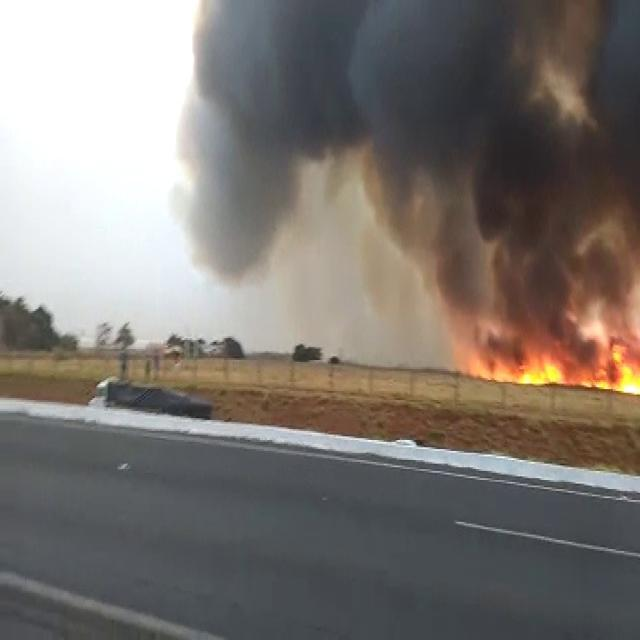Fire: (355, 155, 491, 313), (477, 342, 561, 387), (589, 338, 636, 393)
Smoke: (170, 7, 358, 280), (473, 100, 597, 348), (533, 56, 600, 132)
